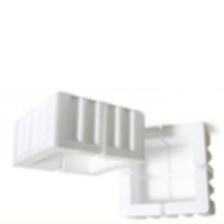foam_box: (7, 87, 150, 178), (115, 119, 218, 221)
